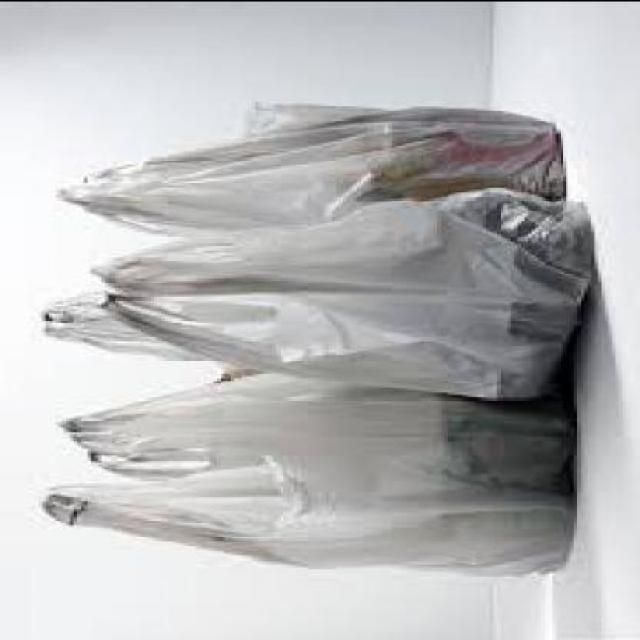PLASTIC: (87, 188, 595, 402), (35, 374, 574, 574), (56, 102, 567, 235), (38, 291, 234, 358)
